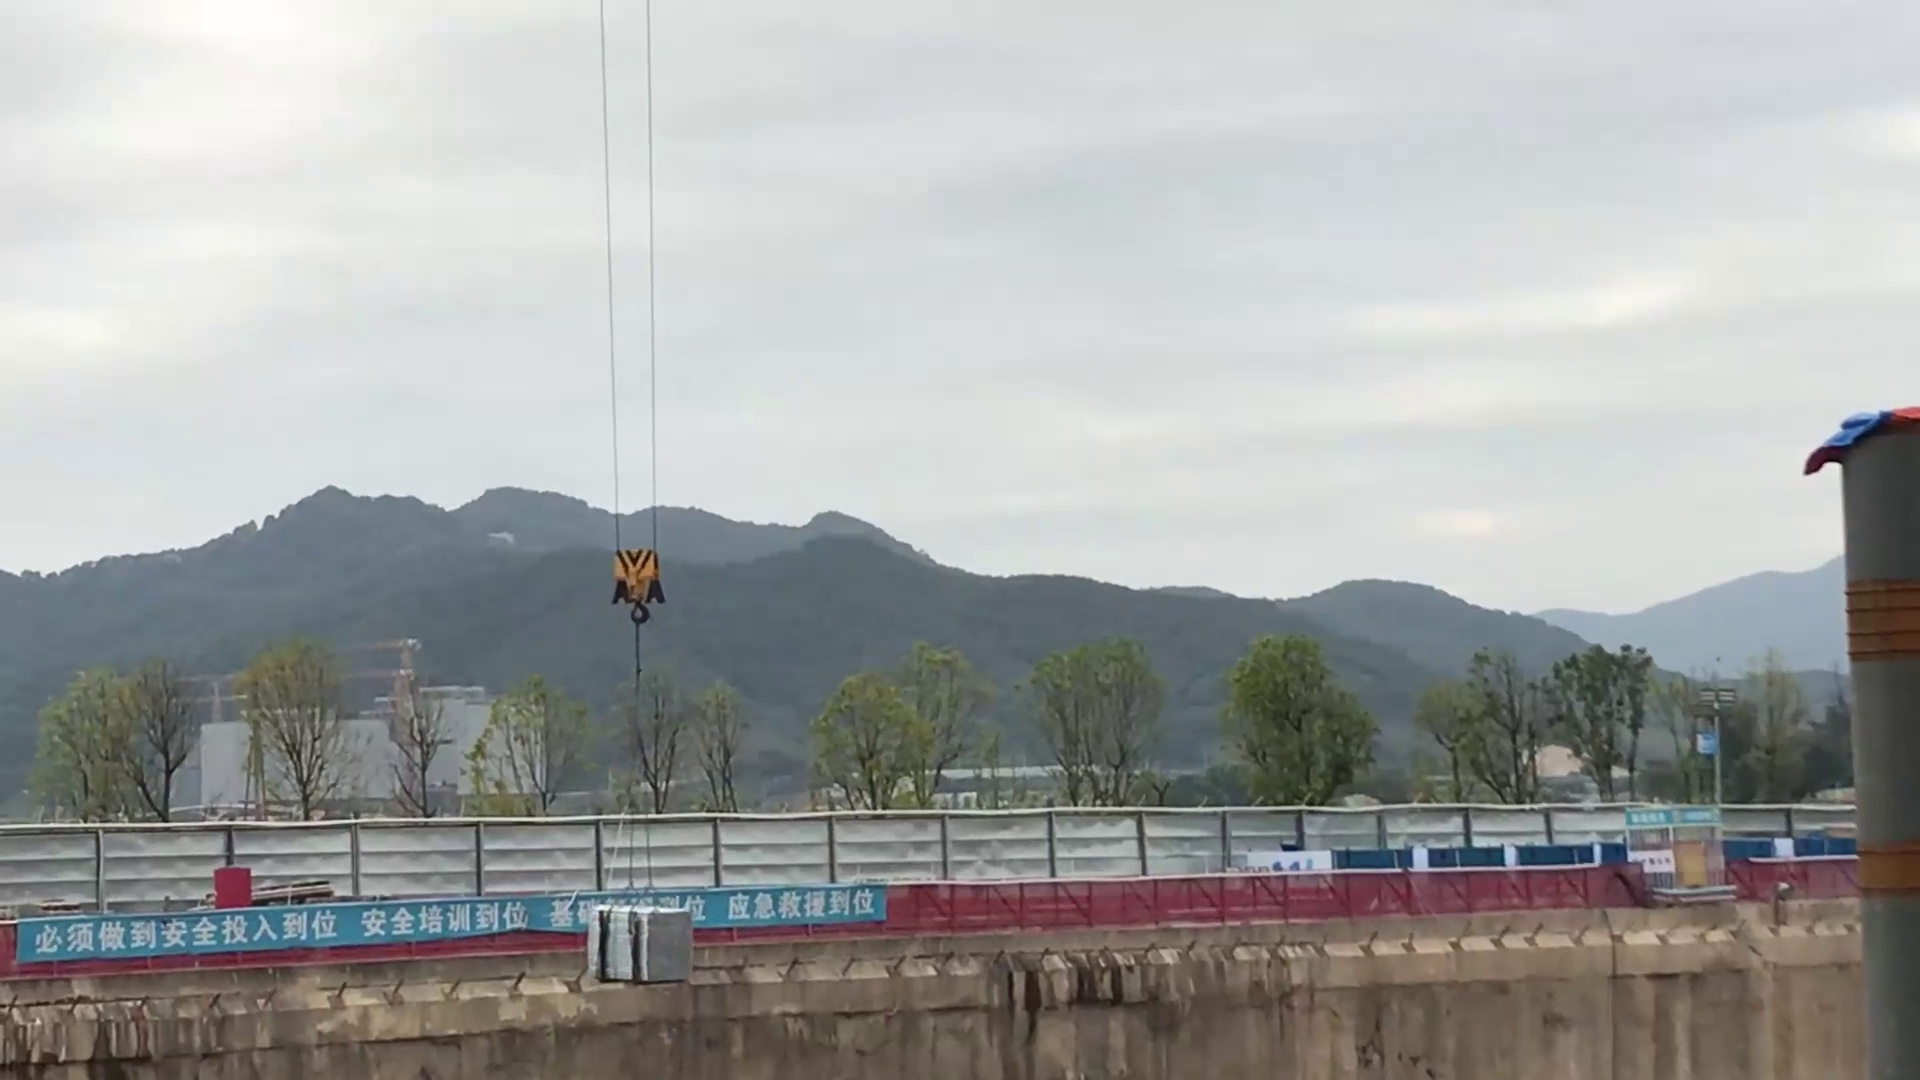hook: (603, 546, 675, 634)
slogan: (26, 870, 898, 951)
